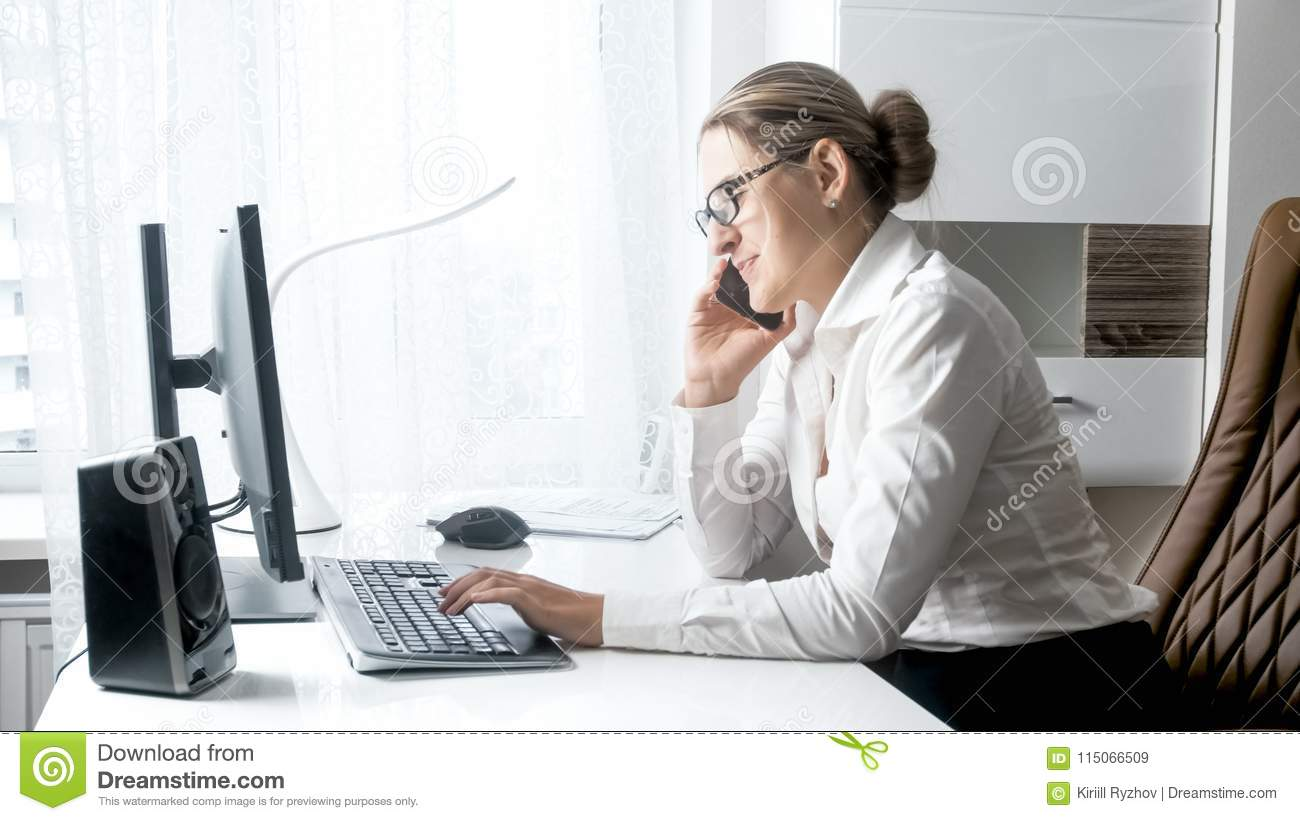talk: (676, 162, 799, 398)
